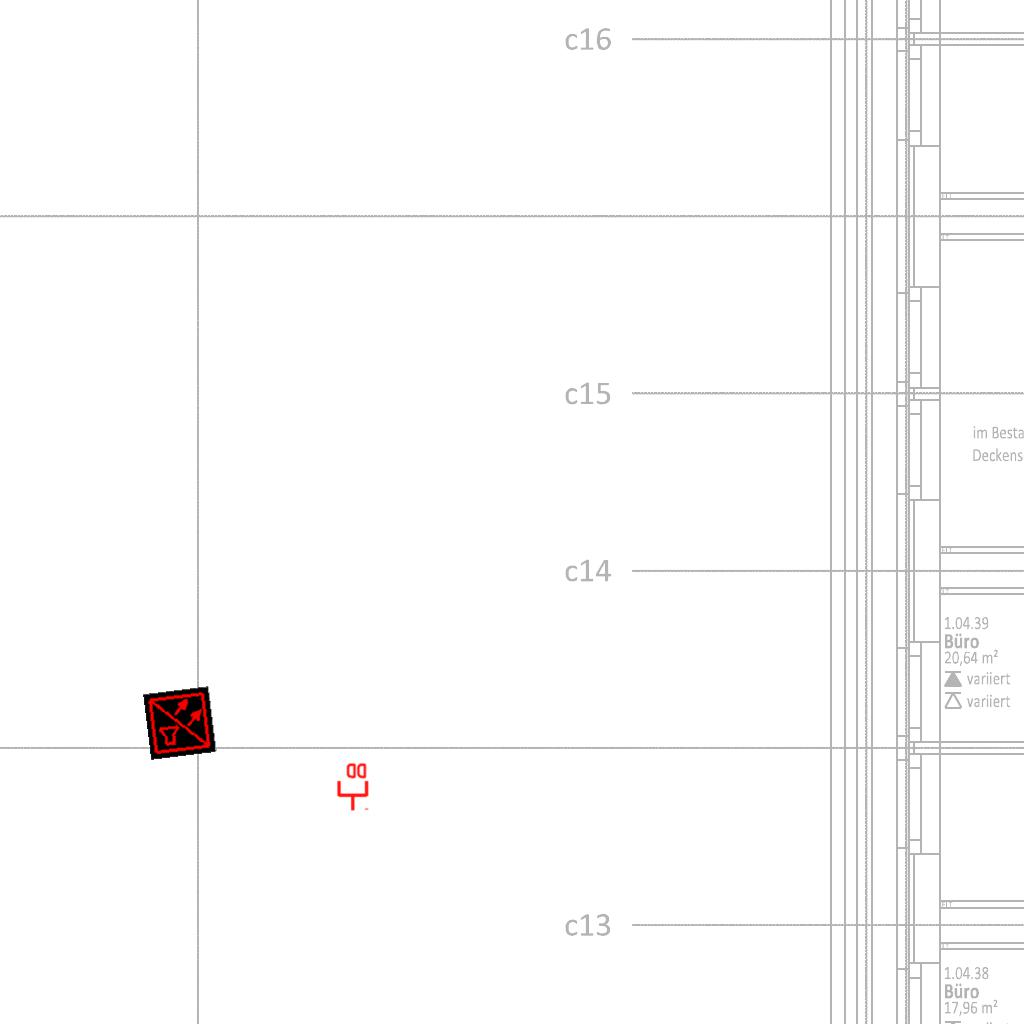Datenanschluss_zweifach: (335, 761, 369, 812)
OKW_Multisensormelder_(Kombination_optischer_Rauch-Kahlenmonoxid_Waerme-Melder): (143, 686, 217, 760)
